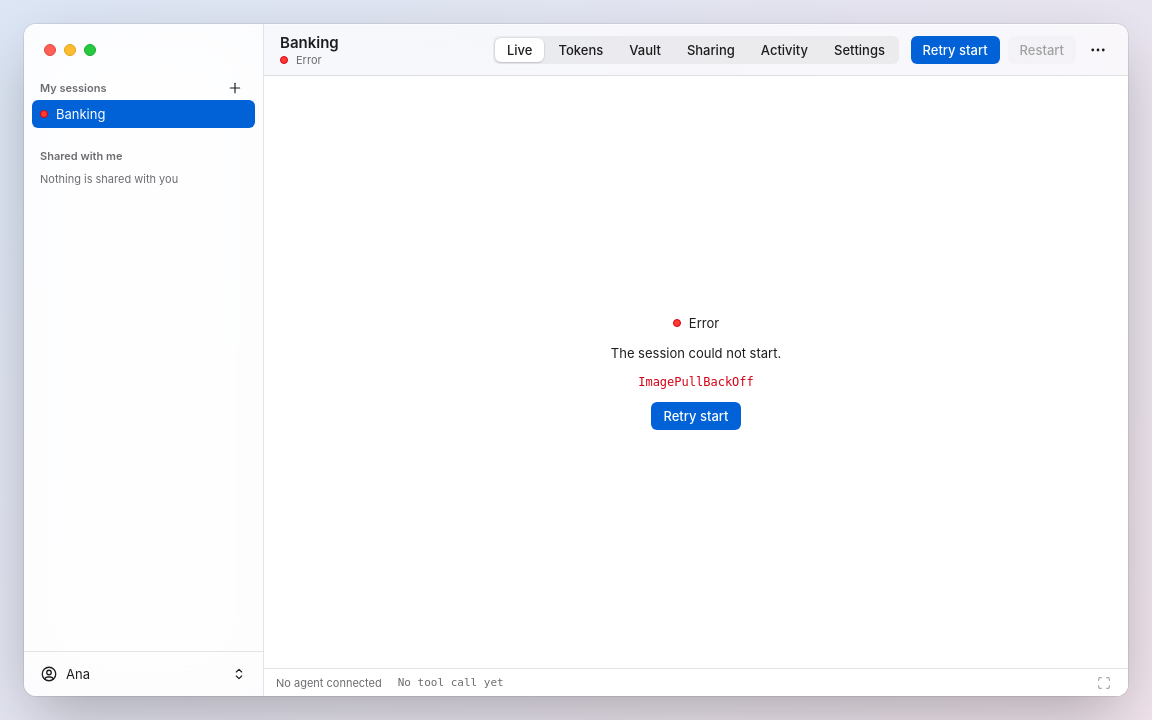
Test: Session toolbar › shows Retry start for a session in error, and the error of a failed start
expect the heading "Banking" is shown: met, box [280, 32, 339, 52]
Click the 1st button "Retry start": (955, 50) [910, 36, 1000, 64]
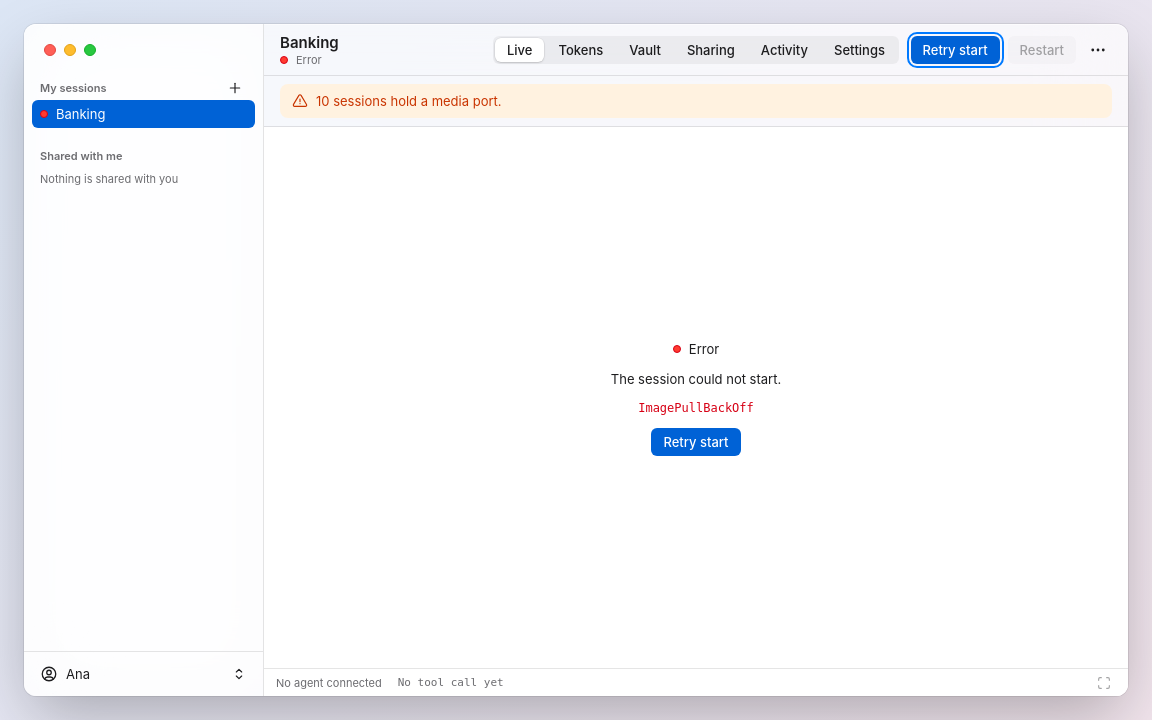
expect the message reads "10 sessions hold a media port.": met, box [316, 93, 502, 109]
